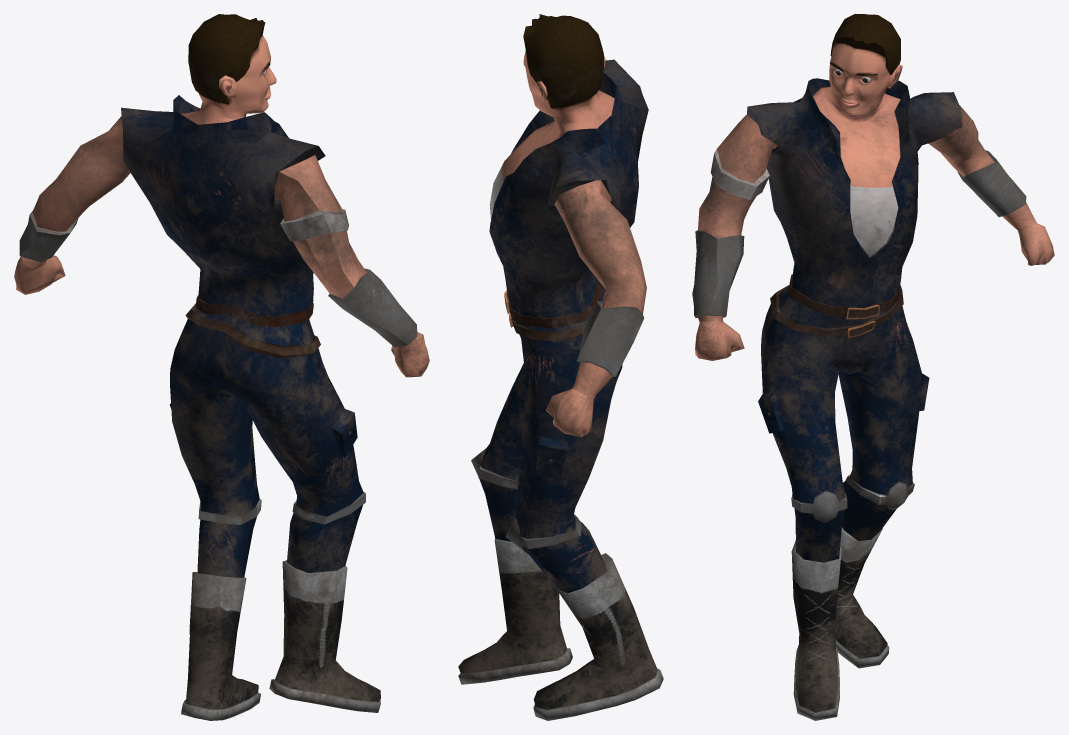
Rendered from Anim_ataque_f1_jugador.0028.obj.
3 renders of one model, left to right at view 1: azimuth 30°, elevation 25°; view 2: azimuth 150°, elevation 25°; view 3: azimuth 270°, elevation 25°, orthographic. The views are drawn at different scales.
Visible parts, largest first — view 1: polySurface1; view 2: polySurface1; view 3: polySurface1.
Boxes of the visible parts, box(x1,y1,x2,y2) form: polySurface1: box(14, 14, 429, 720); polySurface1: box(458, 14, 663, 720); polySurface1: box(692, 14, 1054, 720).
Bounding box in the file's own units: 3.78 × 9.67 × 4.89.
